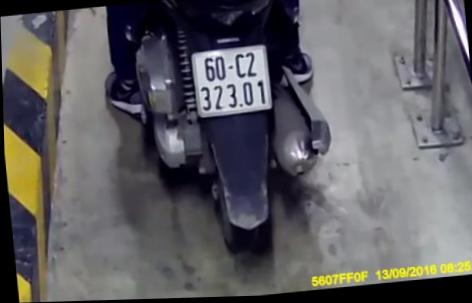LP: (188, 44, 273, 120)
